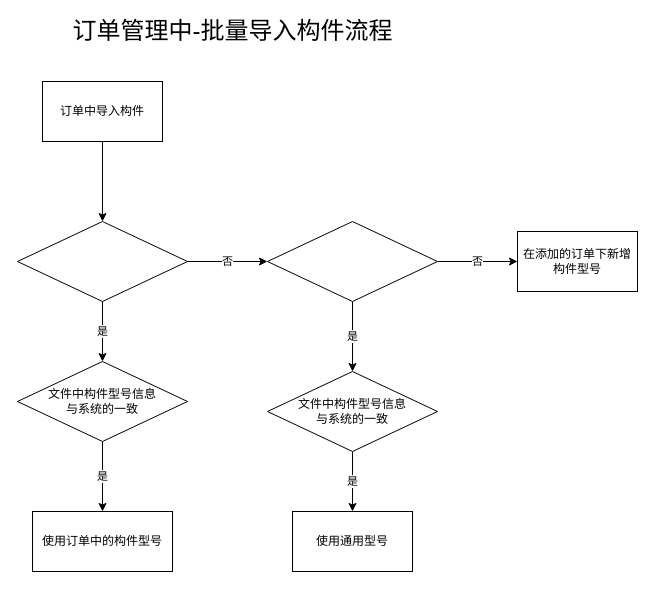
Some shapes in this 655 by 589 pixel diagram are drawn without their labels. The shapes that lost their labels are listed below. From the top down, each one's centre as x and y in pixels, then its label:
the point at 102,261: 订单中有构件型号
the point at 352,261: 通用中是否有
